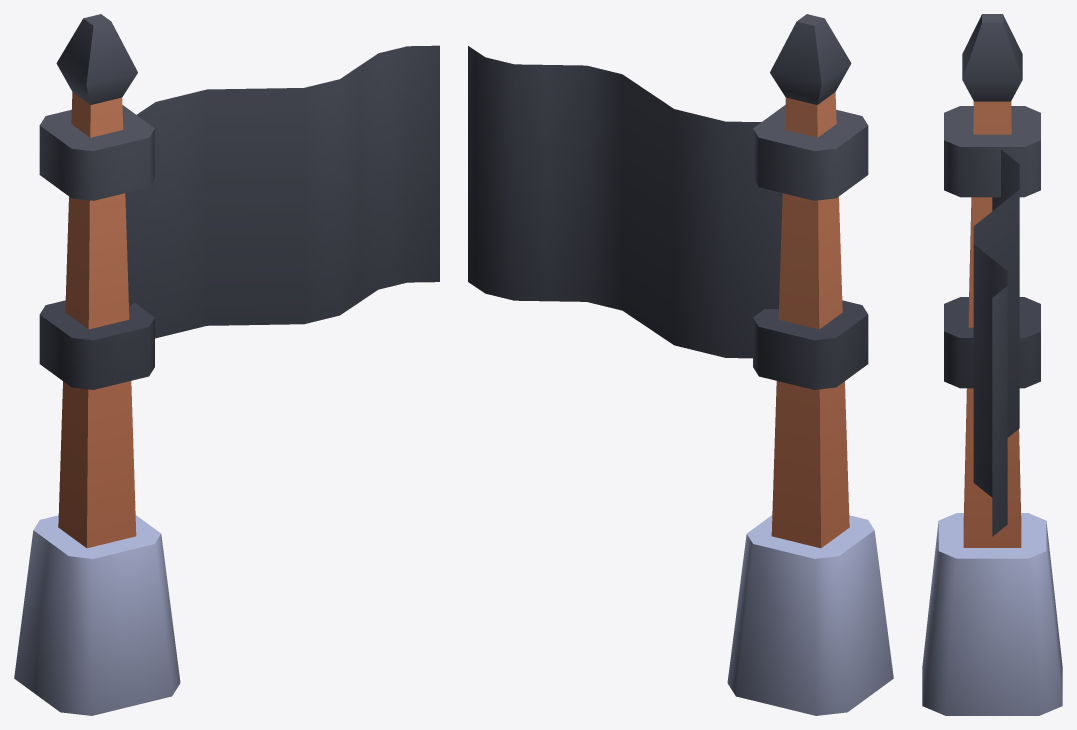
The model's file is pk_flag-pirate.glb.
The picture shows the model from 3 angles, left to right: view 1: azimuth 30°, elevation 25°; view 2: azimuth 150°, elevation 25°; view 3: azimuth 270°, elevation 25°; orthographic projection.
Visible parts, largest first — view 1: flag-pirate; view 2: flag-pirate; view 3: flag-pirate.
Part boxes in pixels (x1,y1,x2,y2): flag-pirate: (14, 14, 439, 715); flag-pirate: (468, 14, 893, 715); flag-pirate: (922, 14, 1062, 715).
Bounding box in the file's own units: 1.34 × 2.1 × 0.3989.
Materials: 1 (1 with a texture image).
